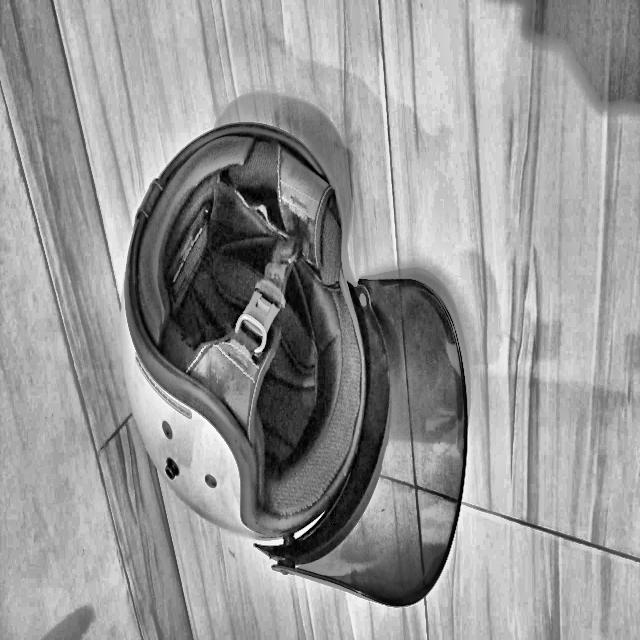Helmet: (15, 211, 296, 640)
